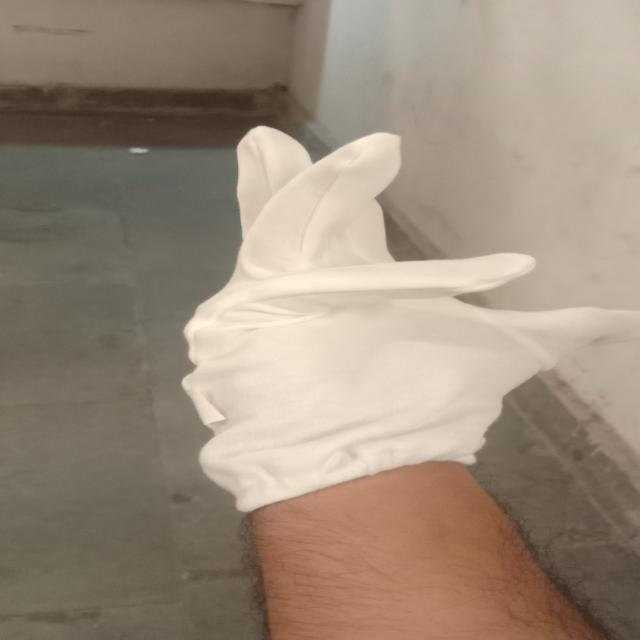glove: (168, 121, 632, 524)
